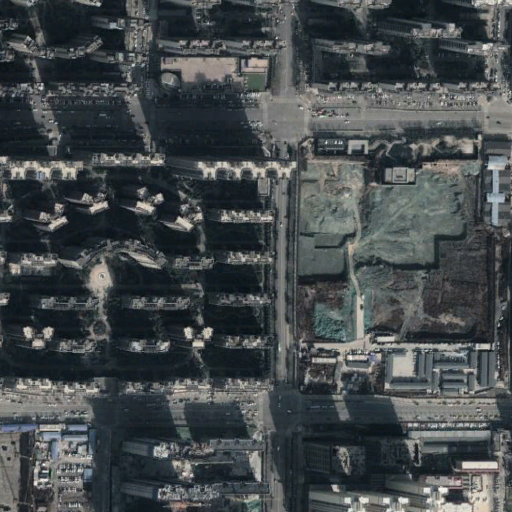cw: (295, 158, 495, 345)
